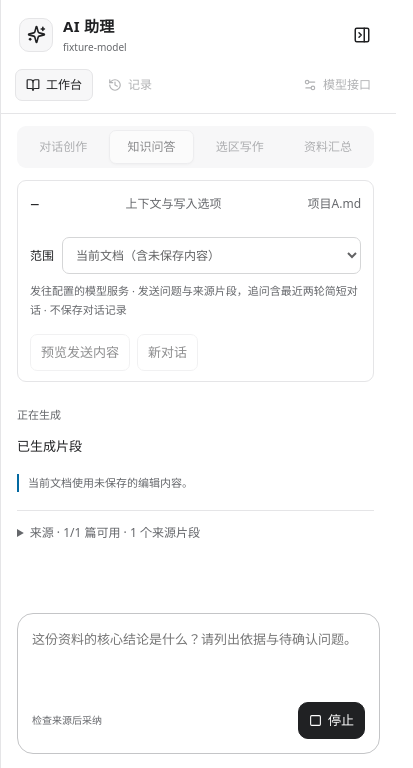
Test: AI workspace › ignores other request events and late results after cancellation
Earlier steps of the test are not shown.
Expected: the text "已生成片段" is shown, [17,437,82,455]
Click the button "停止": (332, 720) [298,702,365,739]
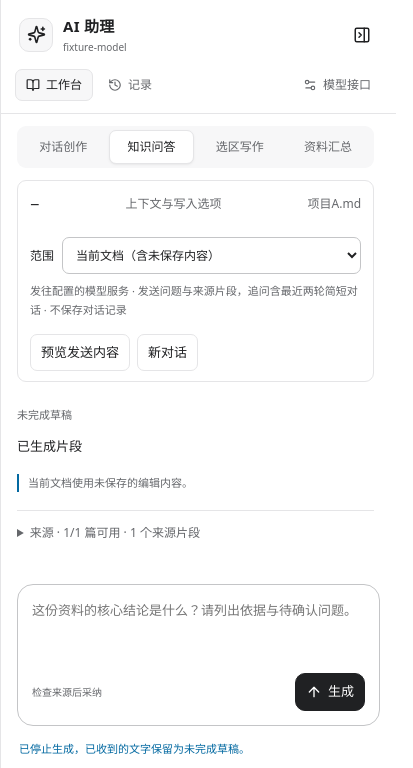
Expected: the text "未完成草稿" is shown, [17,406,72,424]
